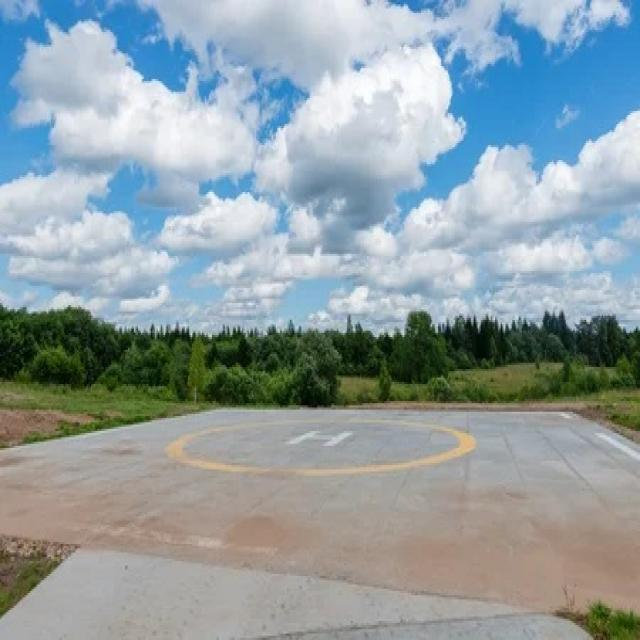helipad: (160, 407, 480, 478)
